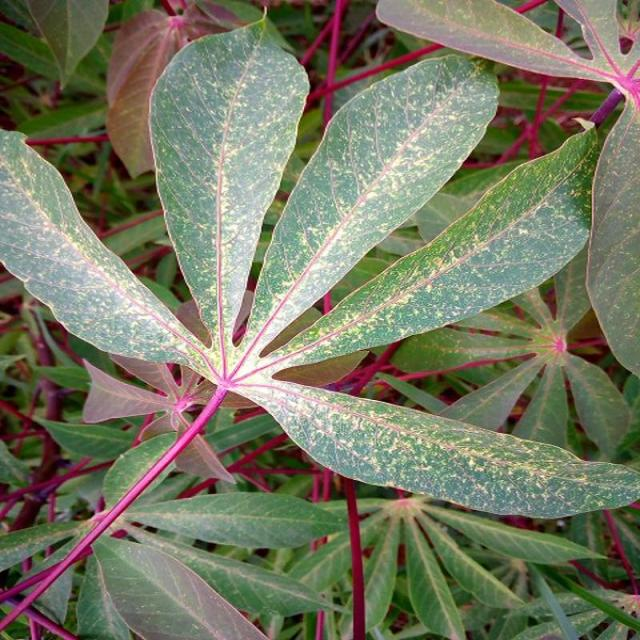cassava leaf: (0, 11, 638, 526), (236, 51, 501, 368), (147, 9, 310, 350), (0, 125, 218, 376)
